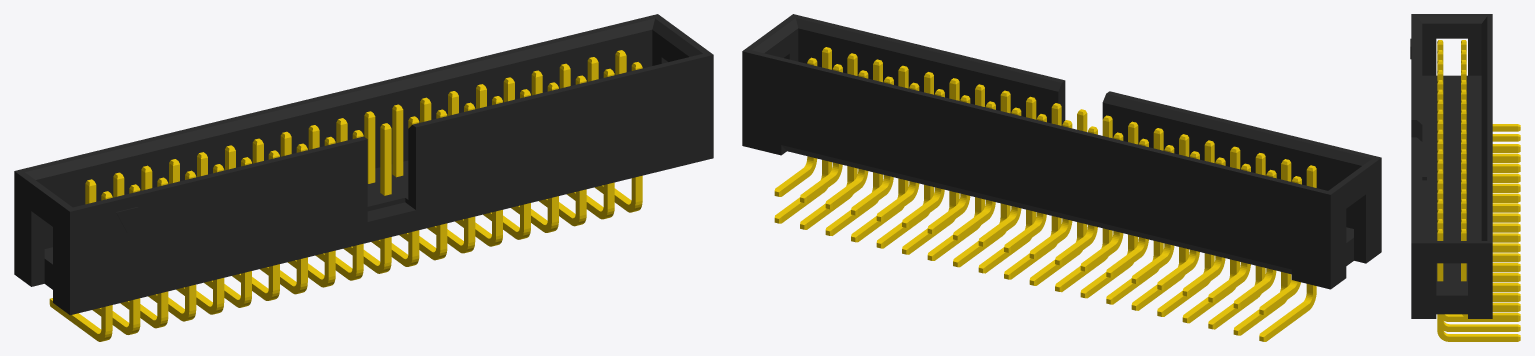
Rendered from DS1013-40R (IDC-40R CONNFLY).obj.
3 views of the same model, side by side, from view 1: azimuth 30°, elevation 25°; view 2: azimuth 150°, elevation 25°; view 3: azimuth 270°, elevation 25° (orthographic). The views are drawn at different scales.
Parts seen in each view (by area): view 1: DS1013-40R_(IDC-40R_CONNFLY); view 2: DS1013-40R_(IDC-40R_CONNFLY); view 3: DS1013-40R_(IDC-40R_CONNFLY).
Part boxes in pixels (<box>): DS1013-40R_(IDC-40R_CONNFLY): <box>14,14,713,341</box>; DS1013-40R_(IDC-40R_CONNFLY): <box>742,14,1381,341</box>; DS1013-40R_(IDC-40R_CONNFLY): <box>1410,14,1520,341</box>.
Size of the model in its own units: 0.013 by 0.00312 by 0.00264.
